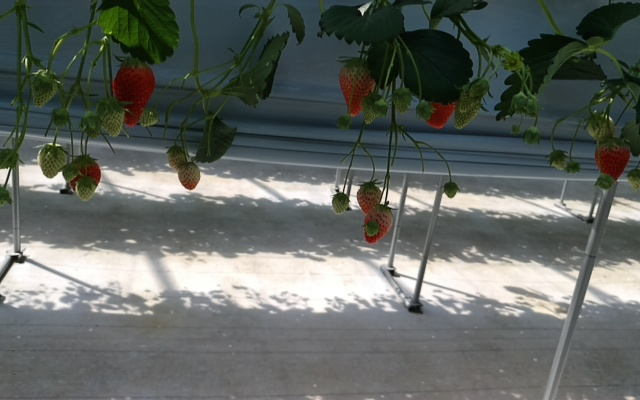GreenStrawberry: (95, 97, 127, 139), (29, 70, 60, 110), (581, 111, 616, 145), (36, 142, 68, 179), (460, 79, 491, 115), (450, 93, 479, 131), (356, 182, 382, 217), (165, 143, 188, 174), (361, 94, 384, 125), (177, 162, 201, 191), (546, 150, 571, 174), (391, 89, 412, 115), (76, 179, 97, 202), (331, 193, 350, 217), (138, 107, 158, 129), (627, 166, 640, 193), (442, 182, 458, 199), (365, 223, 380, 239)
MatureStrawberry: (110, 58, 157, 129), (338, 57, 378, 117), (593, 138, 634, 189), (416, 85, 455, 131), (65, 155, 104, 195), (362, 205, 395, 245)
